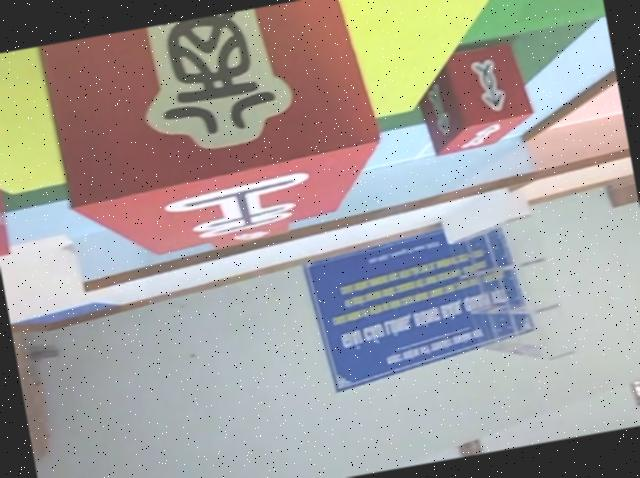R1: (0, 145, 11, 260)
R2 Fake: (40, 0, 395, 270)
R2 Real: (410, 32, 540, 159)
